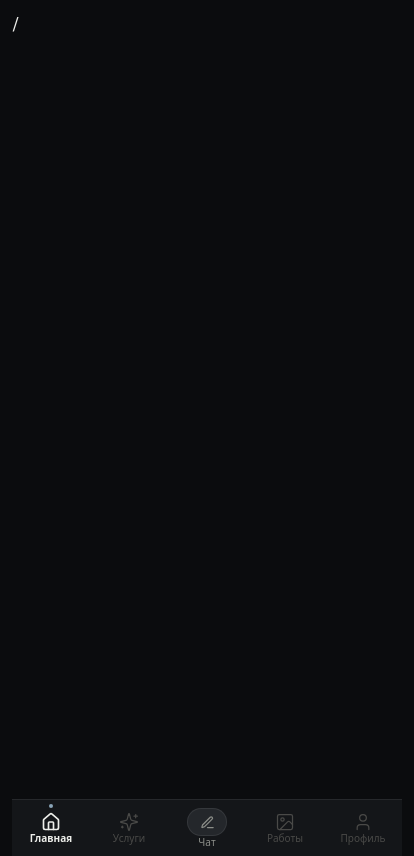
BottomNav (мобильное меню) › переходит на /services по второму пункту
Click the button "Услуги": (129, 828) 90,800 -> 168,855
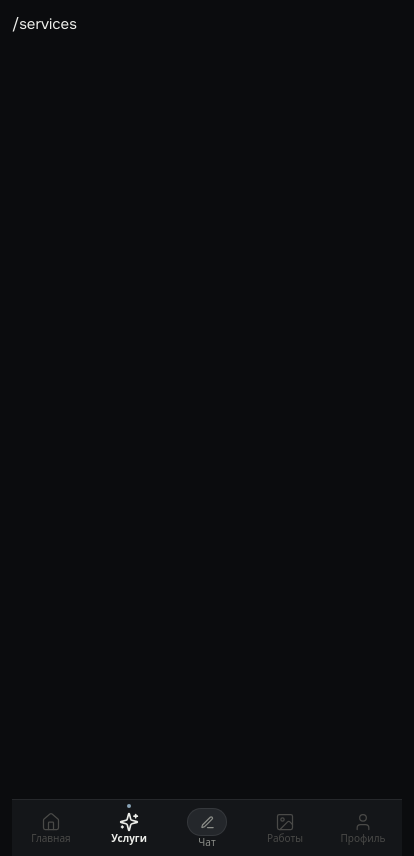
Now the text with test id "loc" reads "/services", box 12,14 -> 77,34
